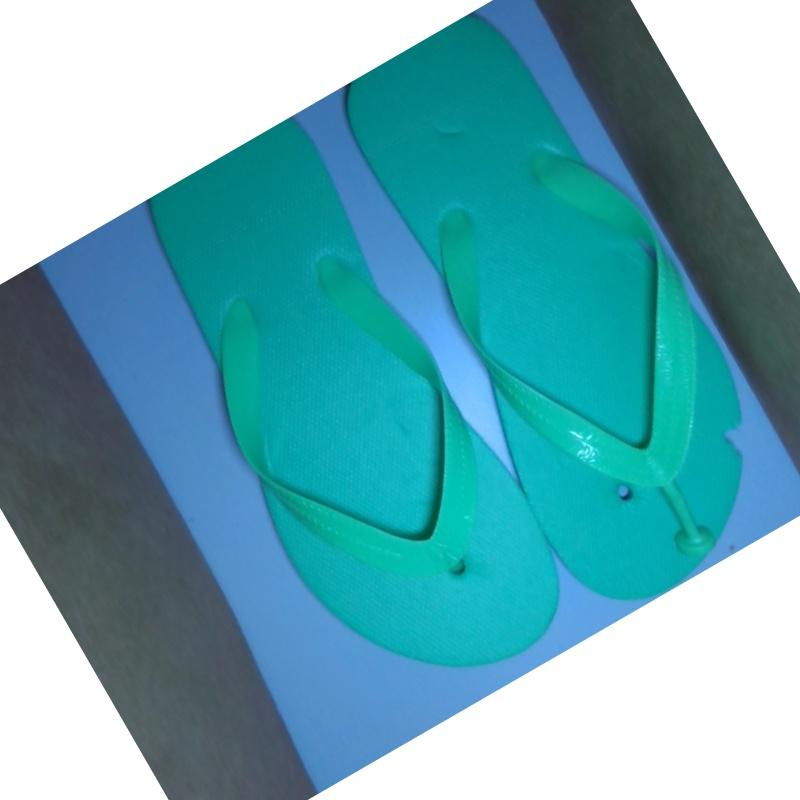chipped: (713, 410, 752, 482)
detached: (664, 500, 720, 560)
